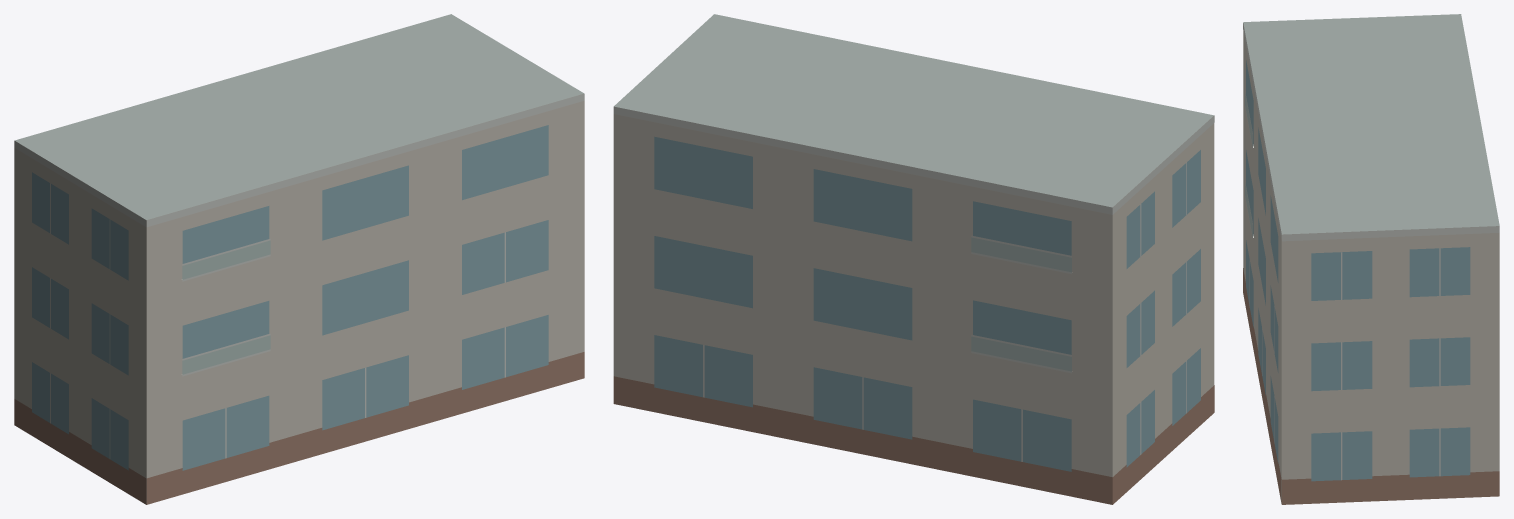
File: survey-upis-32716271.glb
3 renders of one model, left to right at view 1: azimuth 30°, elevation 25°; view 2: azimuth 150°, elevation 25°; view 3: azimuth 270°, elevation 25°, orthographic. The views are drawn at different scales.
Parts seen in each view (by area): view 1: survey-upis-32716271.tmp; view 2: survey-upis-32716271.tmp; view 3: survey-upis-32716271.tmp.
Boxes of the visible parts, left/top/right/bottom form: survey-upis-32716271.tmp: left=14, top=14, right=584, bottom=504; survey-upis-32716271.tmp: left=613, top=14, right=1214, bottom=504; survey-upis-32716271.tmp: left=1243, top=14, right=1499, bottom=504.
Size of the model in its own units: 16.98 by 9.7 by 8.36.
